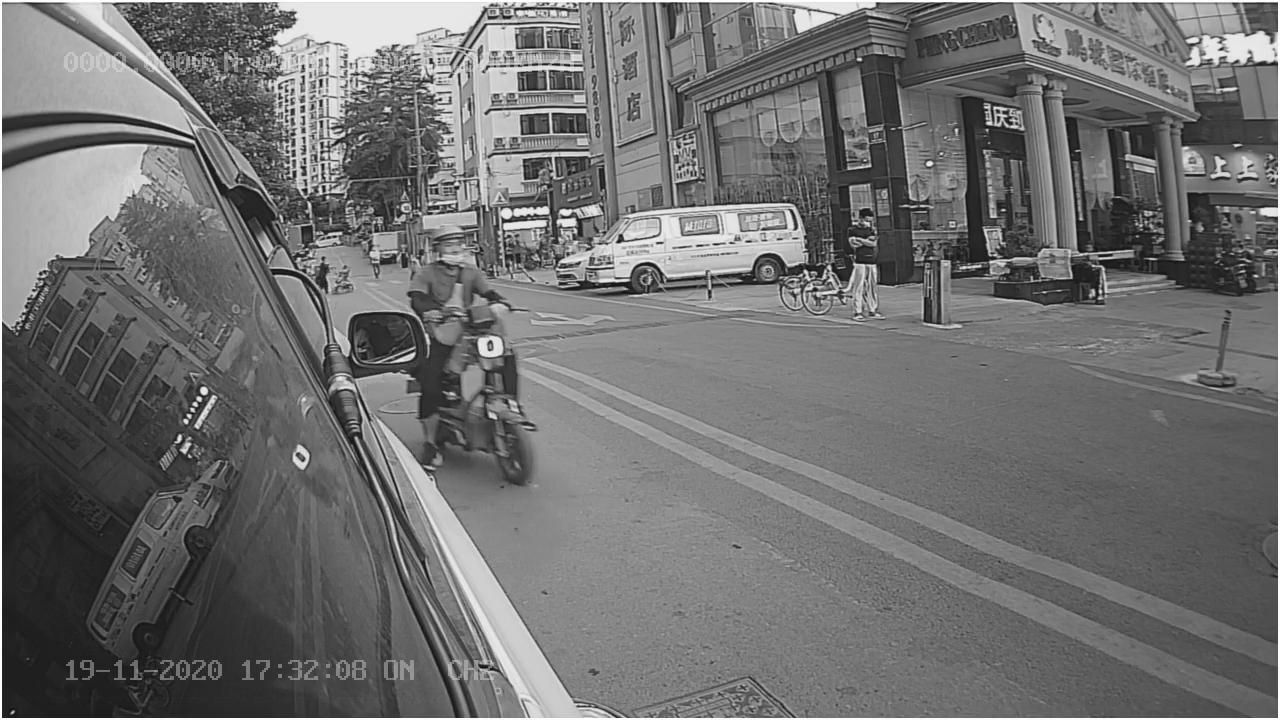person: (403, 224, 499, 310)
